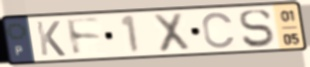1: (119, 14, 141, 56)
C: (200, 11, 238, 51)
F: (64, 17, 105, 59)
K: (34, 19, 68, 58)
S: (237, 8, 275, 50)
X: (150, 11, 193, 55)
